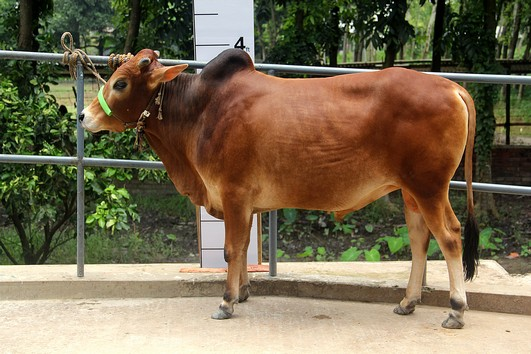cow: (76, 37, 479, 334)
